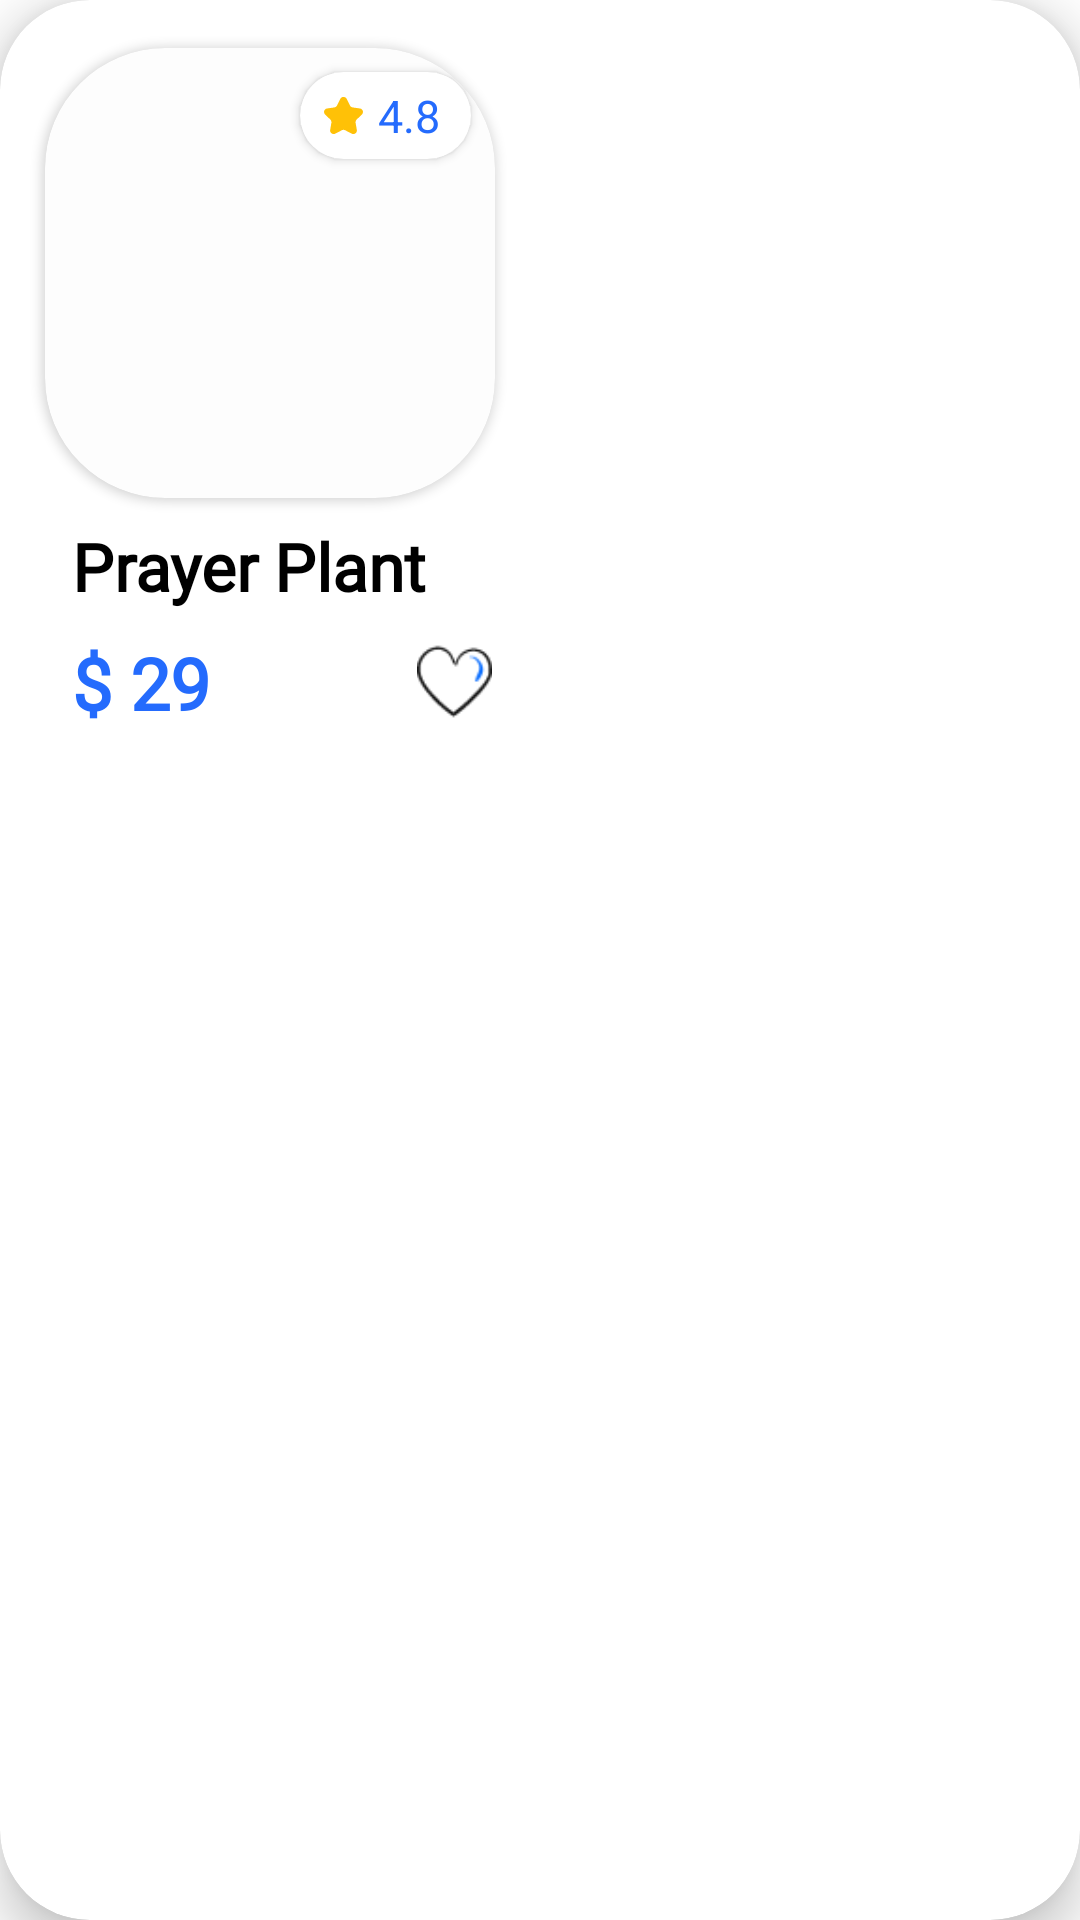

Named icons in this screenshot (1080px x 1920px) and their centers, point (x, y):
heart org: point (454, 681)
star: point (343, 115)
